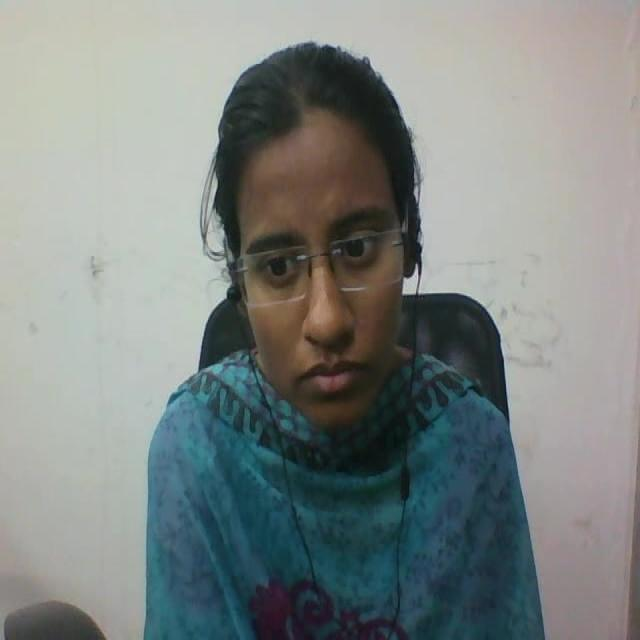Engaged: (189, 23, 472, 459)
